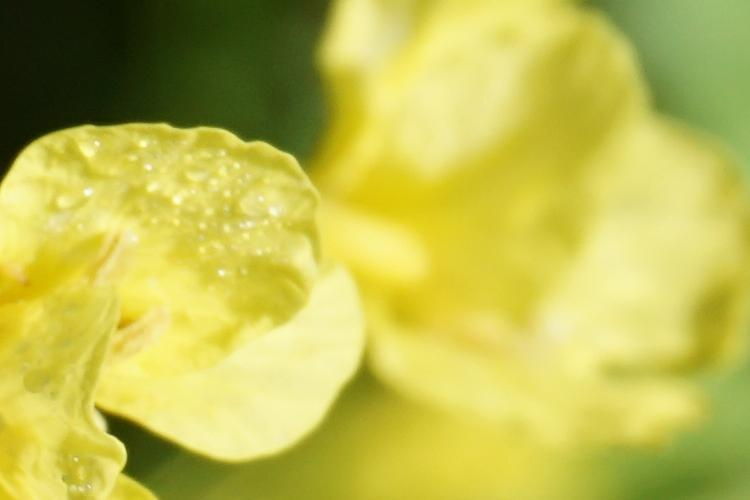yellow: (326, 13, 733, 434), (29, 113, 383, 493)
